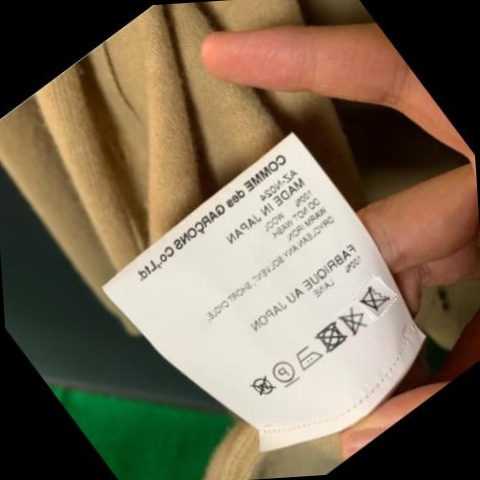DN_bleach: (338, 304, 367, 337)
DN_tumble_dry: (313, 323, 345, 353)
DN_wash: (359, 281, 390, 315)
DN_wet_clean: (248, 373, 275, 399)
dry_clean_any_solvent_except_trichloroethylene: (269, 357, 298, 389)
iron_medium: (292, 342, 326, 374)
